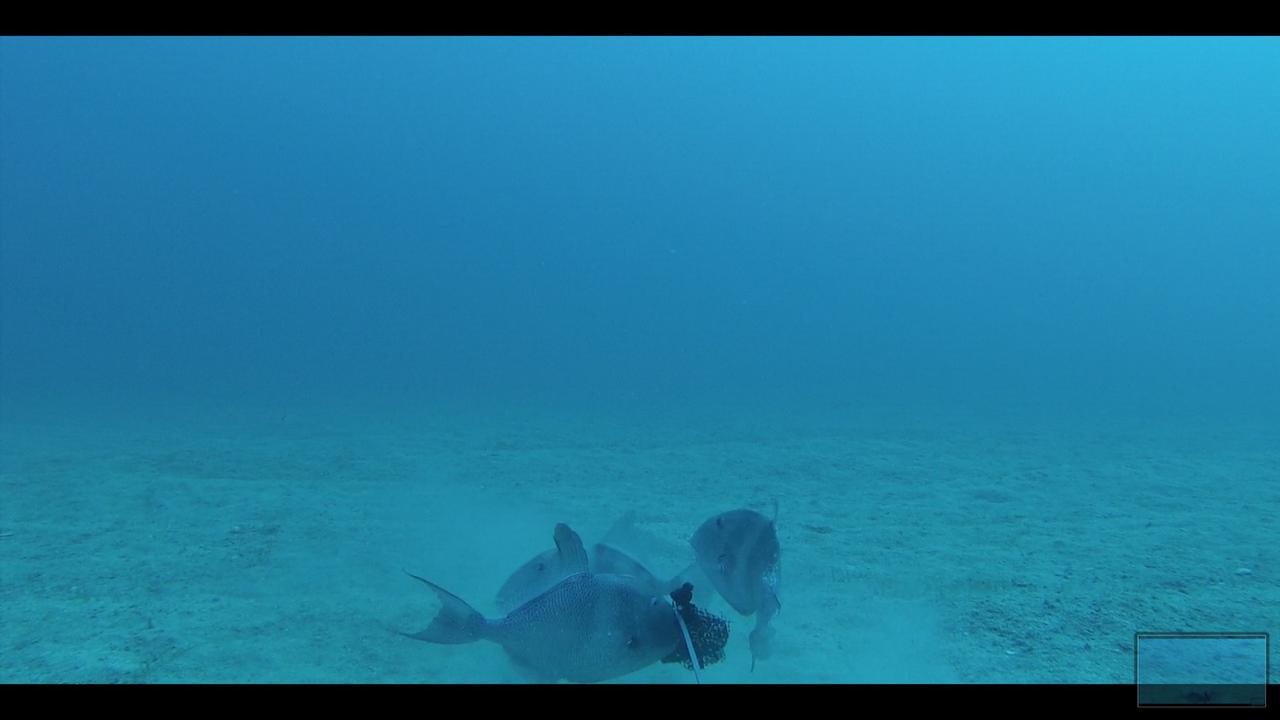balistes: (383, 526, 679, 682), (494, 504, 718, 610), (686, 490, 789, 673)
